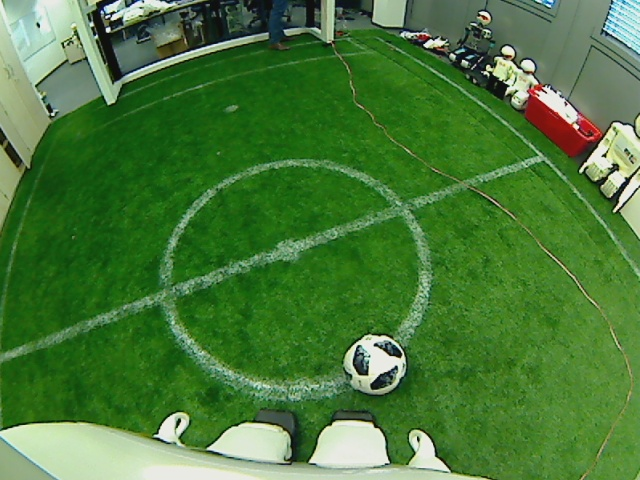ball: (341, 331, 407, 396)
